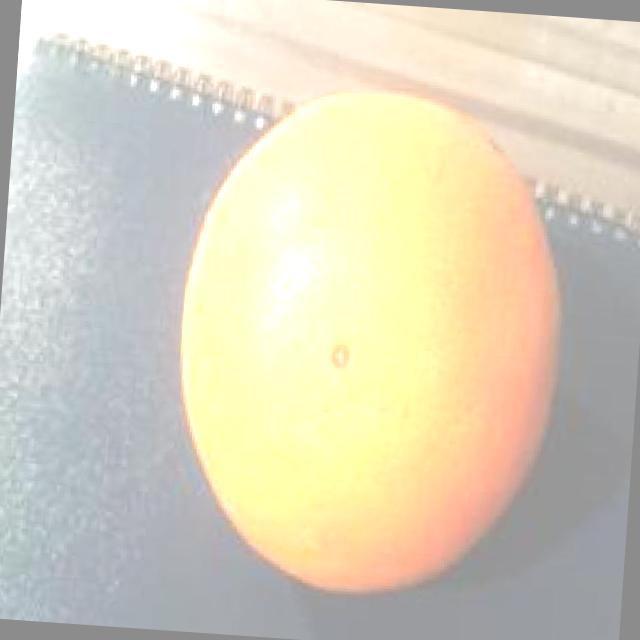Orange: (162, 77, 576, 608)
